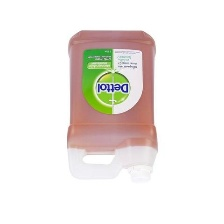cleaning_solution: (62, 24, 162, 188)
